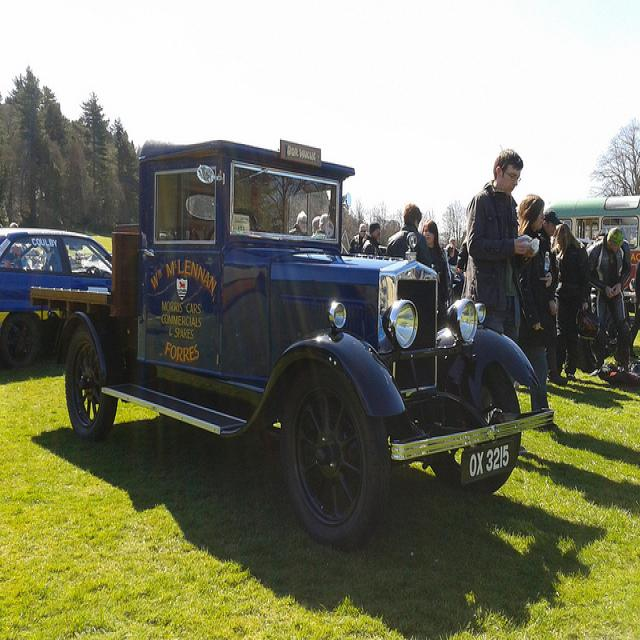Vehicle: (28, 135, 557, 549), (1, 227, 112, 371), (547, 194, 640, 291)
